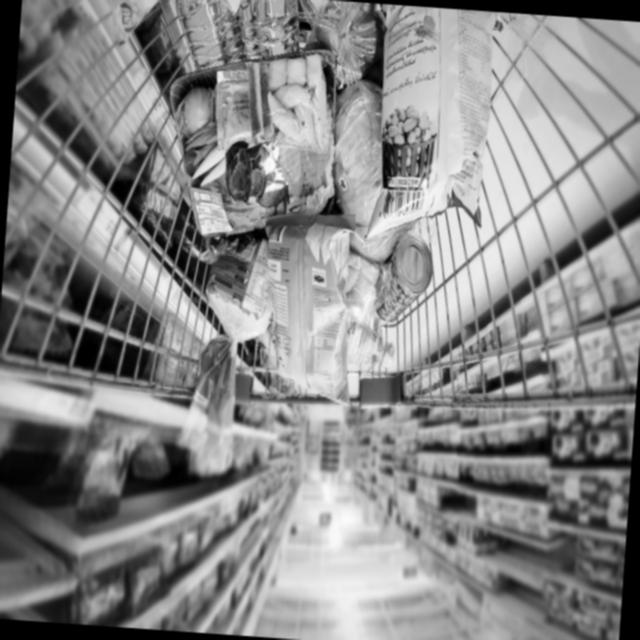apple: (299, 0, 390, 89)
bap cai: (325, 71, 392, 232)
bread: (187, 234, 276, 450)
oil: (329, 308, 397, 376)
